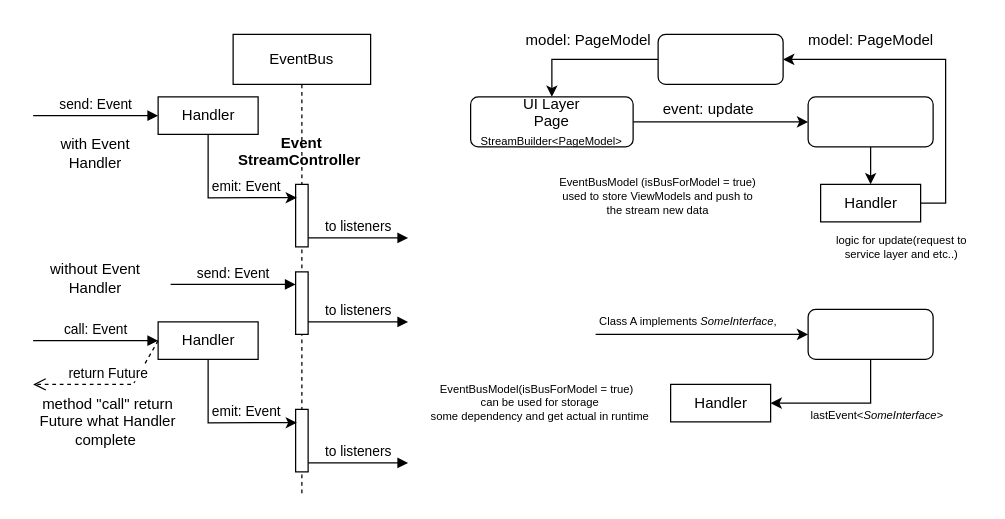
This 1005x519 diagram has some shape labels left out. The centre of each missing label's shape, as x and y in pixels:
App Logic Layer EventBus: the point at 870,121
App Logic Layer EventBusModel: the point at 870,333
UI Layer EventBusModel: the point at 720,58
